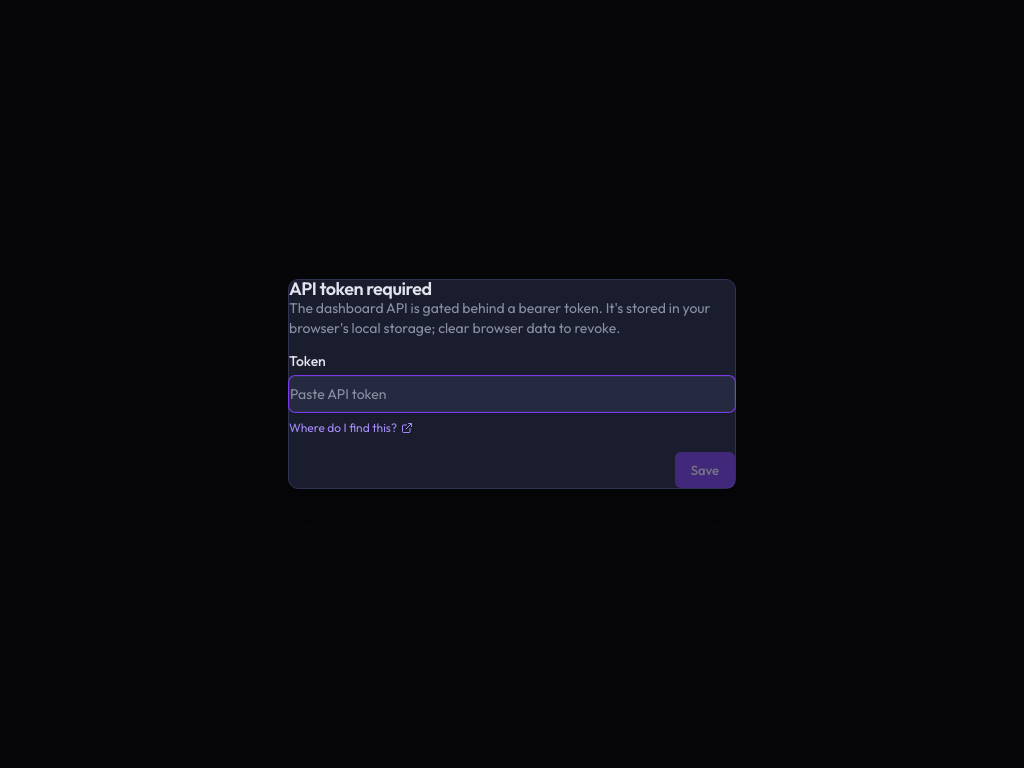
Scenario: ApiTokenModal › should show a validation error for a token shorter than 16 characters
Type "tooshort" into the password field with placeholder "Paste API token" at (512, 394), box [289,376,735,412]
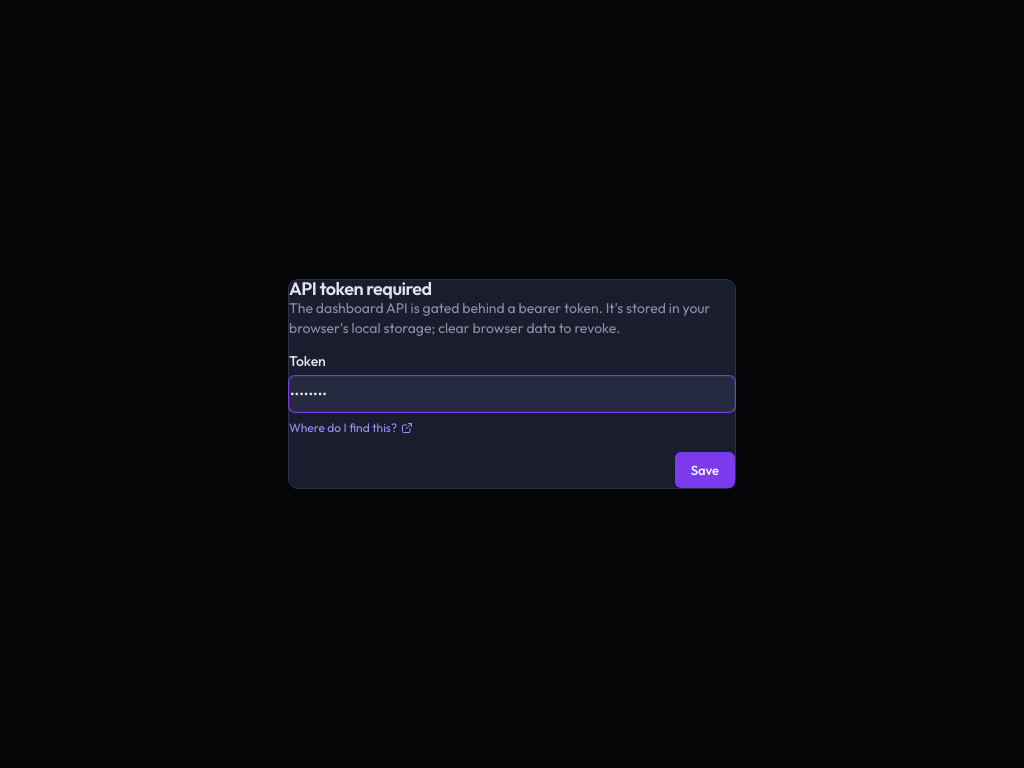
Click the button "Save" at (705, 470), box [675,452,735,488]
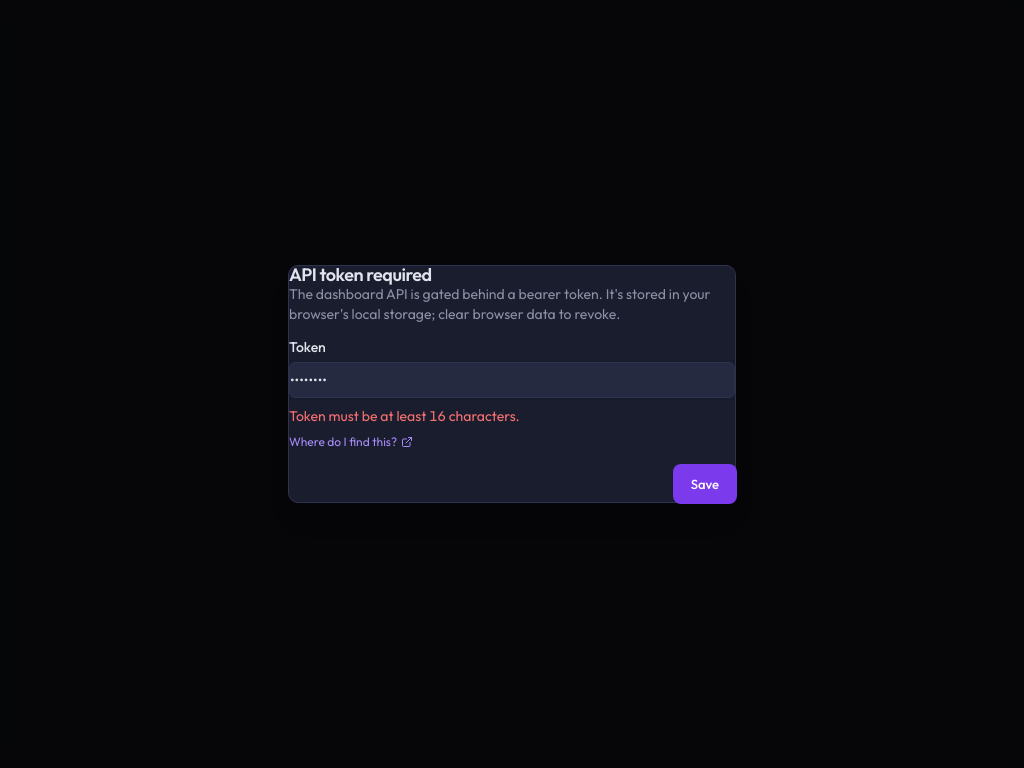
Result: the message shows "at least 16 characters" at [289,407,520,425]
